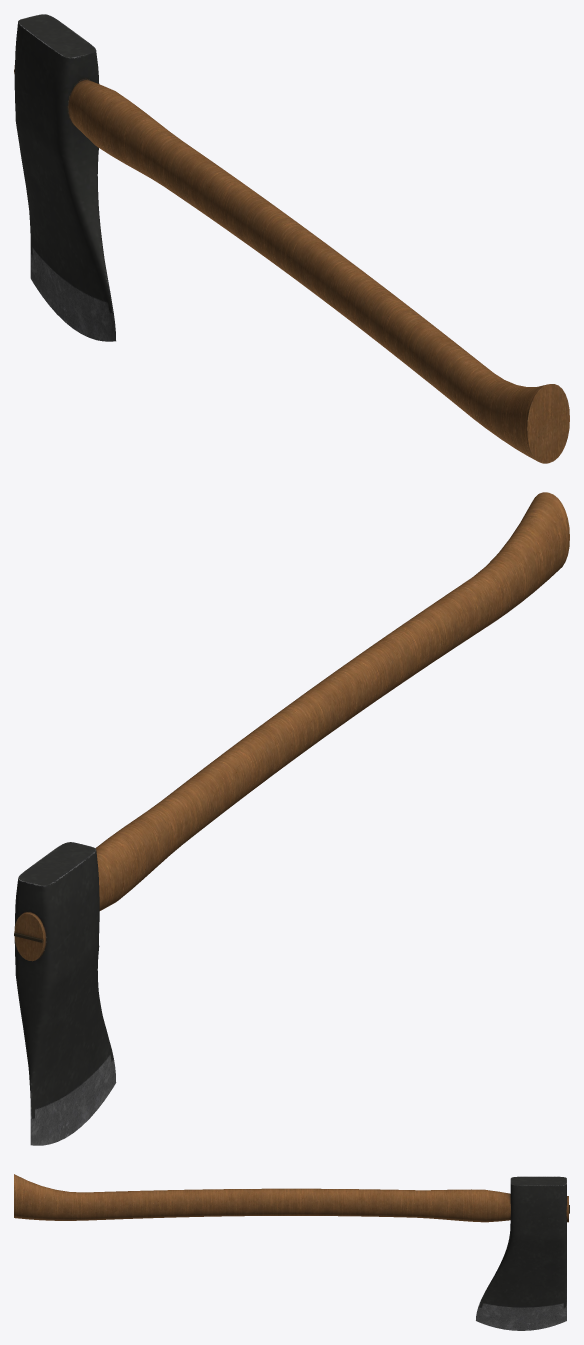
The model's file is axe.glb.
3 renders of one model, top to bottom at view 1: azimuth 30°, elevation 25°; view 2: azimuth 150°, elevation 25°; view 3: azimuth 270°, elevation 25°, orthographic. The views are drawn at different scales.
Visible parts, largest first — view 1: axe; view 2: axe; view 3: axe.
Boxes of the visible parts, box(x1,y1,x2,y2) form: axe: box(14, 14, 569, 463); axe: box(14, 492, 569, 1145); axe: box(14, 1174, 569, 1330).
Size of what is drawn, in the model's own units: 0.0288 by 0.1885 by 0.6092.
1 material, 1 textured.
